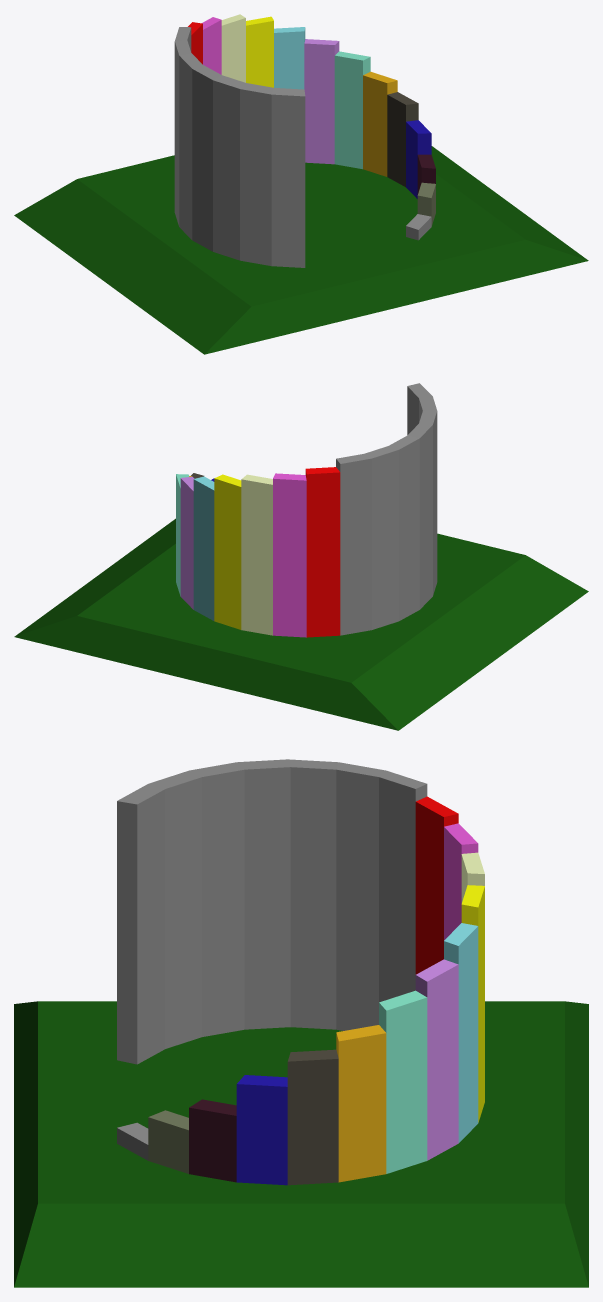
File: monumento_arco_iris.fbx
3 renders of one model, top to bottom at view 1: azimuth 30°, elevation 25°; view 2: azimuth 150°, elevation 25°; view 3: azimuth 270°, elevation 25°, orthographic. The views are drawn at different scales.
Parts seen in each view (by area): view 1: monumento_arco_iris; view 2: monumento_arco_iris; view 3: monumento_arco_iris.
Part boxes in pixels (box(x1,y1,x2,y2)): monumento_arco_iris: box(14, 14, 588, 354); monumento_arco_iris: box(14, 383, 588, 730); monumento_arco_iris: box(14, 759, 588, 1287).
Bounding box in the file's own units: 835 × 417 × 715.
